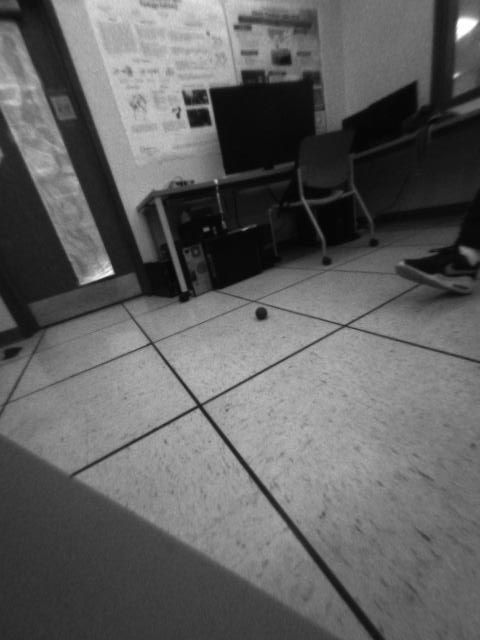dogtoy: (251, 300, 274, 329)
